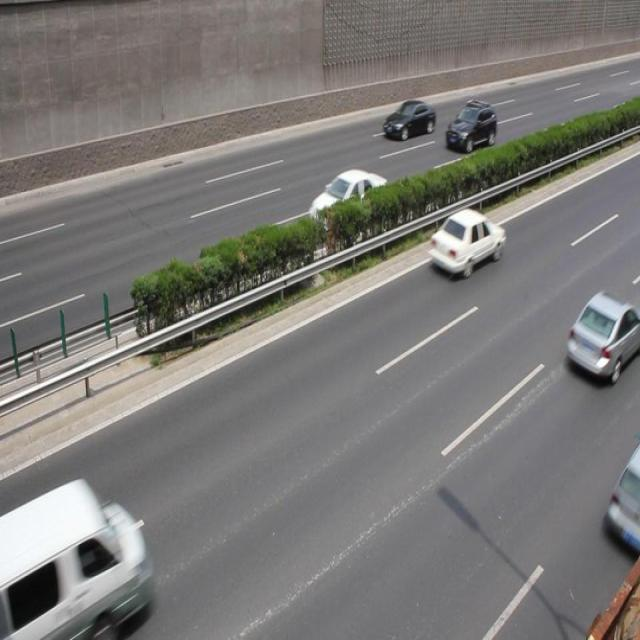car: (564, 287, 640, 383), (426, 208, 505, 279), (306, 170, 387, 237), (444, 101, 495, 154), (382, 99, 435, 143)
truck: (1, 474, 151, 640)
